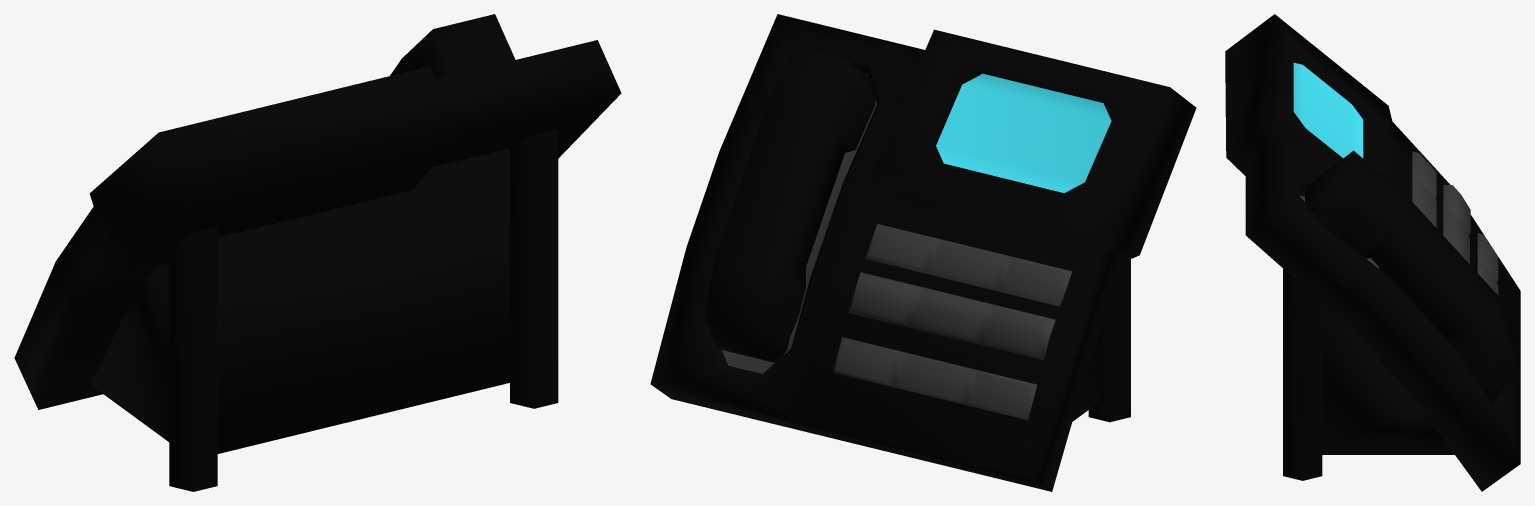
Rendered from mesh_phone_02.fbx.
3 renders of one model, left to right at view 1: azimuth 30°, elevation 25°; view 2: azimuth 150°, elevation 25°; view 3: azimuth 270°, elevation 25°, orthographic. The views are drawn at different scales.
Parts seen in each view (by area): view 1: mesh_phone_01; view 2: mesh_phone_01; view 3: mesh_phone_01.
Boxes of the visible parts, x1,y1,x2,y2 form: mesh_phone_01: (14,14,621,491); mesh_phone_01: (650,14,1196,491); mesh_phone_01: (1225,14,1520,491).
Bounding box in the file's own units: 6.01 × 4.27 × 4.81.
Materials: 1 (1 with a texture image).
